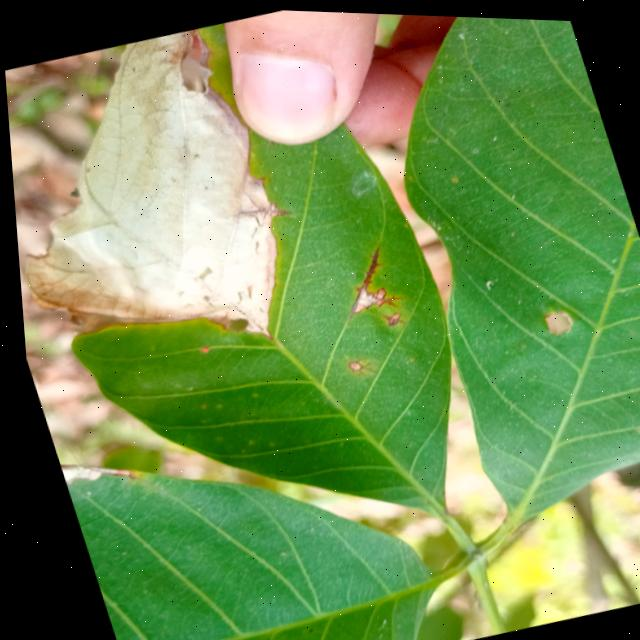Corynespora: (323, 239, 401, 318), (376, 304, 403, 327)
Leaf-Blight: (1, 15, 317, 391), (52, 447, 124, 490)
